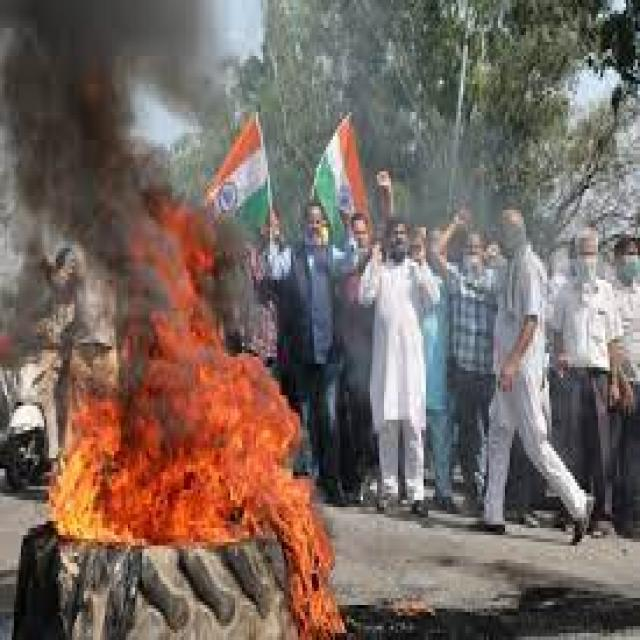Fire: (53, 346, 298, 536), (152, 202, 214, 353), (289, 473, 342, 639)
Smoke: (1, 0, 224, 125), (4, 195, 152, 348), (0, 128, 171, 194), (44, 197, 152, 264), (213, 216, 261, 349)
